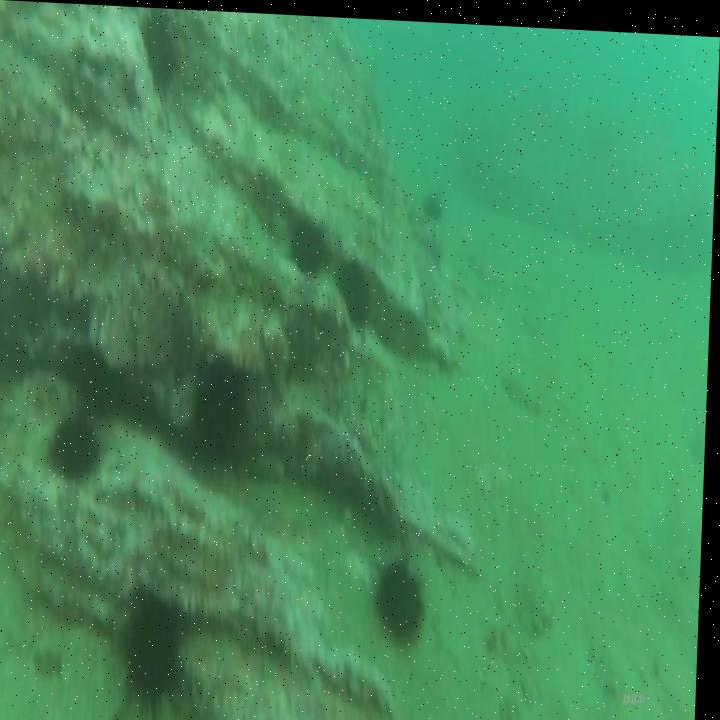echinus: (113, 574, 195, 720), (186, 351, 257, 488), (370, 542, 437, 649), (47, 399, 111, 492), (135, 6, 189, 104), (335, 245, 380, 336), (287, 204, 331, 277)
